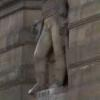Statue: (22, 3, 74, 100)
